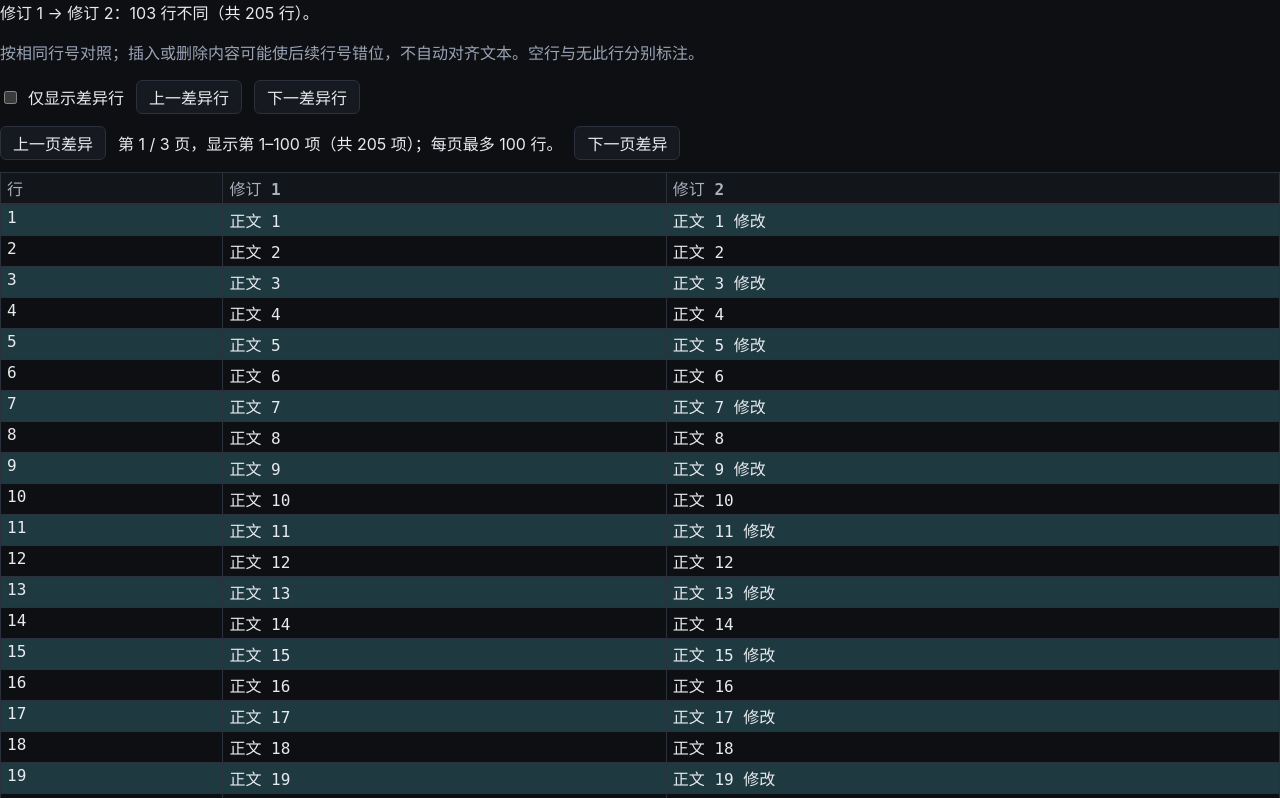
Prompt revision comparison usability › locates original lines in filtered pages and starts from the current page after manual paging
Click the checkbox labelled "仅显示差异行" at (10, 97), box [4,90,17,104]
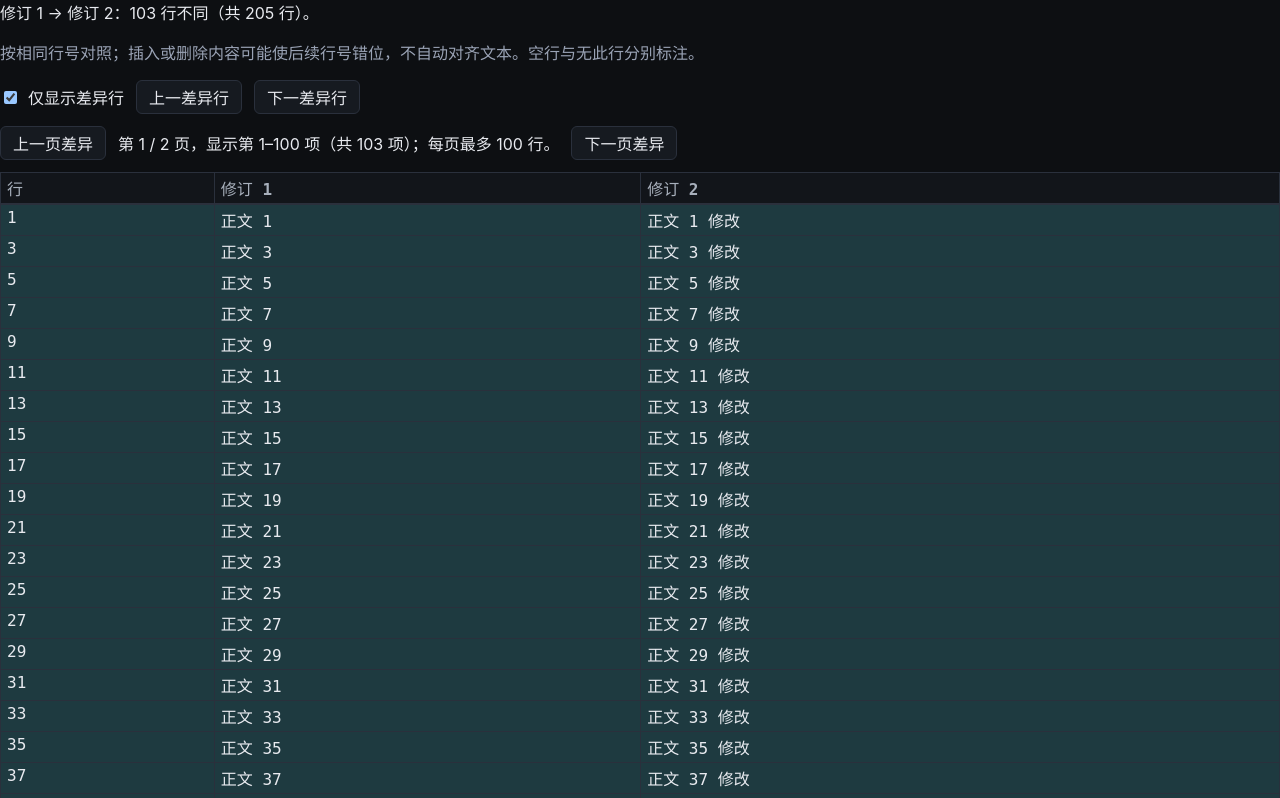
Click the button "下一页差异" at (624, 143), box [571,126,677,160]
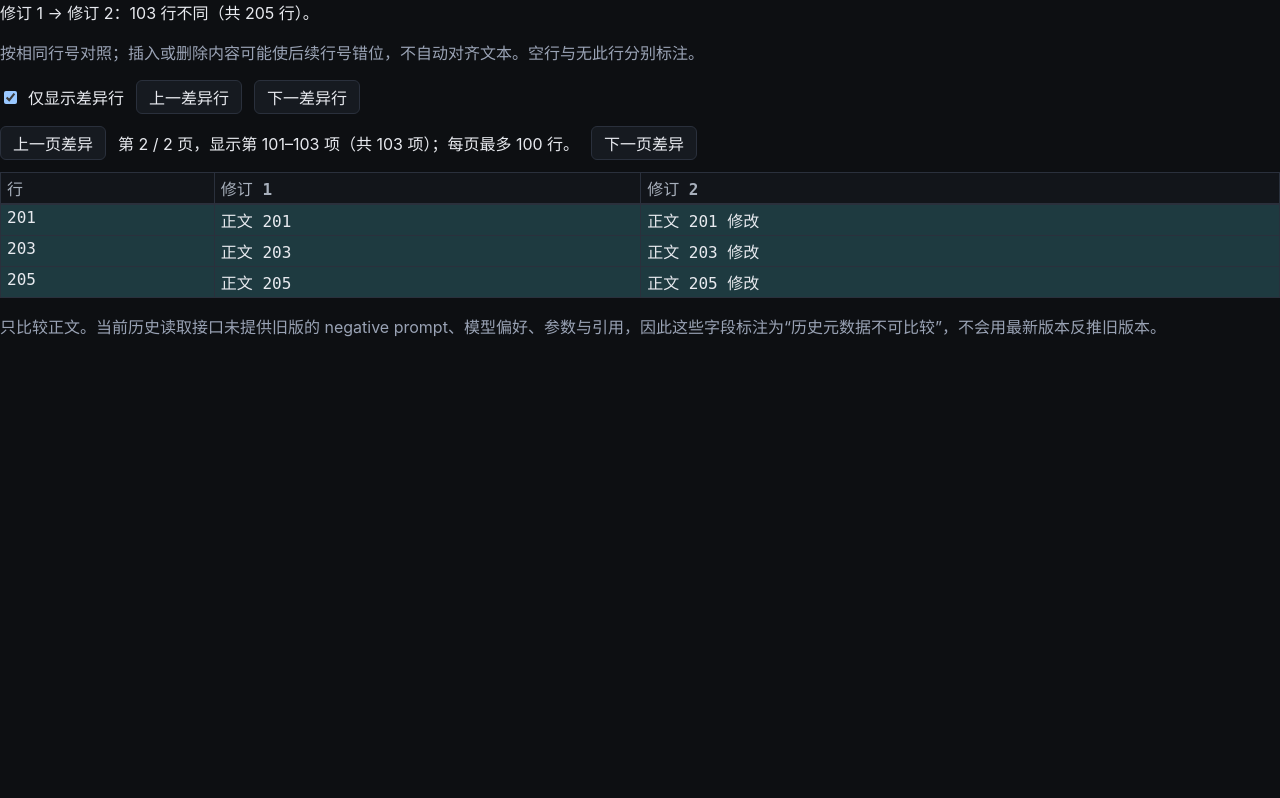
Click the button "下一差异行" at (307, 97), box [254,80,360,114]
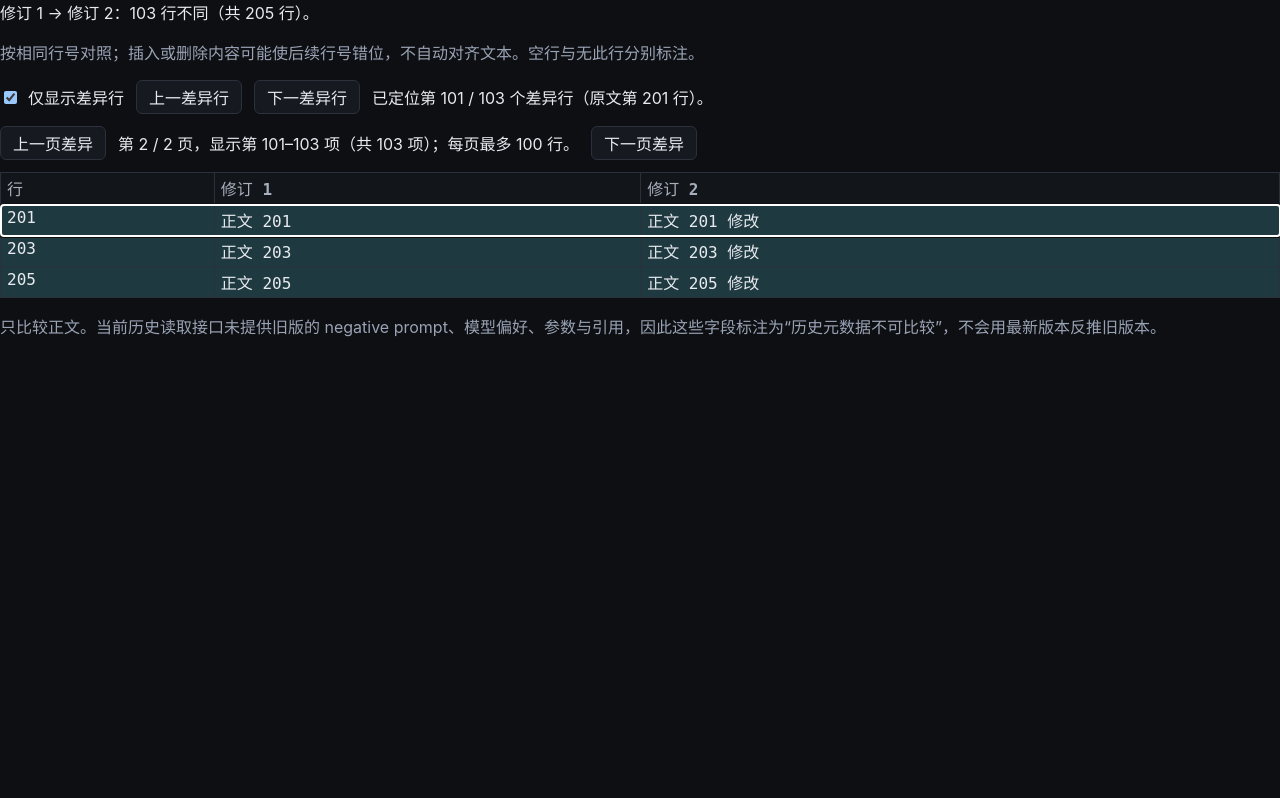
Check: the text "201" is shown, box [0,204,214,236]
Check: the text "已定位第 101 / 103 个差异行（原文第 201 行）。" is shown, box [372,85,713,109]
Click the button "上一差异行" at (189, 97), box [136,80,242,114]
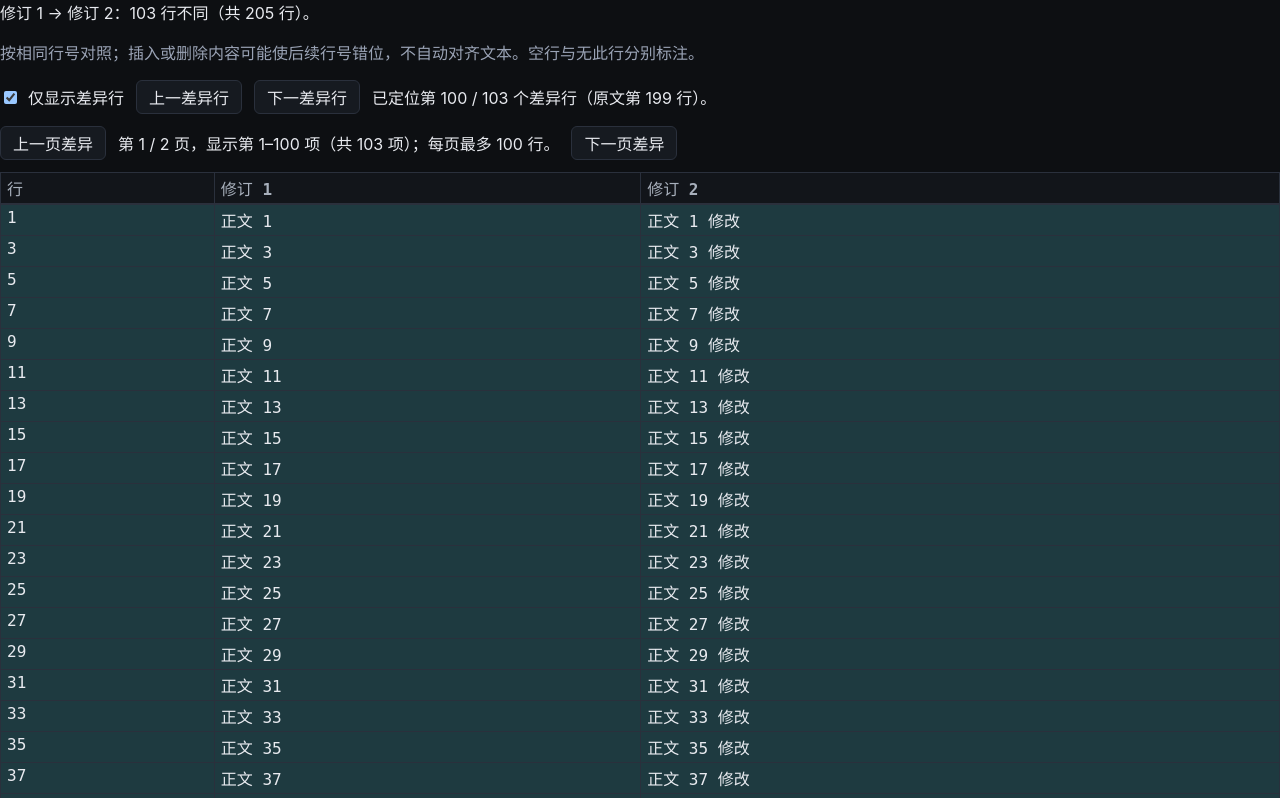
Check: the text "第 1 / 2 页，显示第 1–100 项（共 103 项）；每页最多 100 行。" is shown, box [118,131,559,155]
Click the checkbox labelled "仅显示差异行" at (10, 97), box [4,90,17,104]
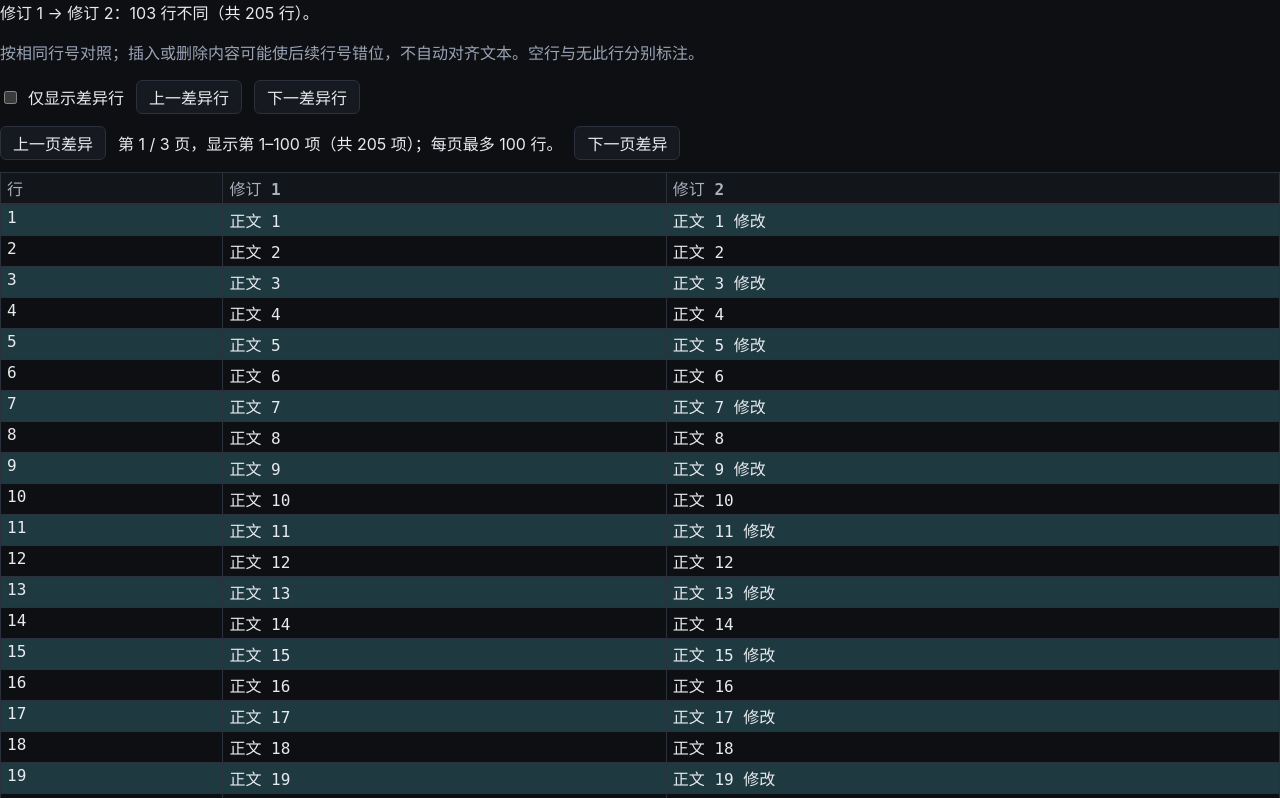
Check: the text "已定位第" is gone
Check: the text "第 1 / 3 页，显示第 1–100 项（共 205 项）；每页最多 100 行。" is shown, box [118,131,562,155]
